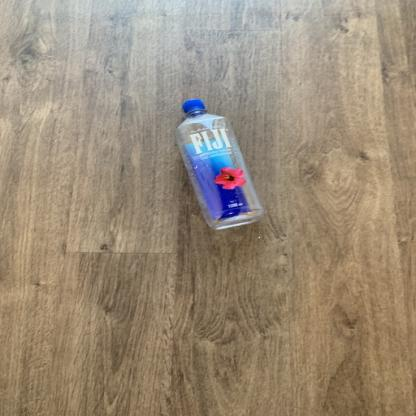trash: (167, 100, 268, 237)
